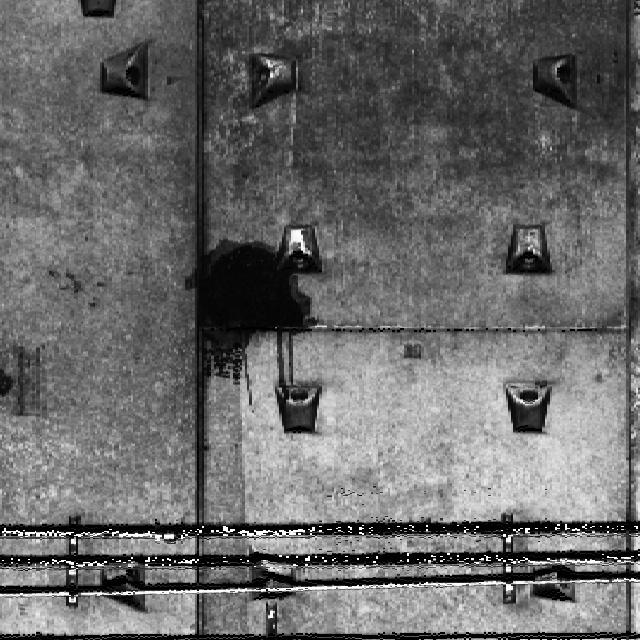leakage: (194, 235, 318, 398)
